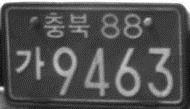3: (147, 46, 173, 97)
4: (83, 47, 110, 96)
6: (114, 46, 141, 97)
8: (122, 12, 143, 39), (101, 12, 120, 39)
9: (52, 46, 78, 96)
가: (15, 46, 45, 81)
충북_O: (43, 11, 90, 39)
